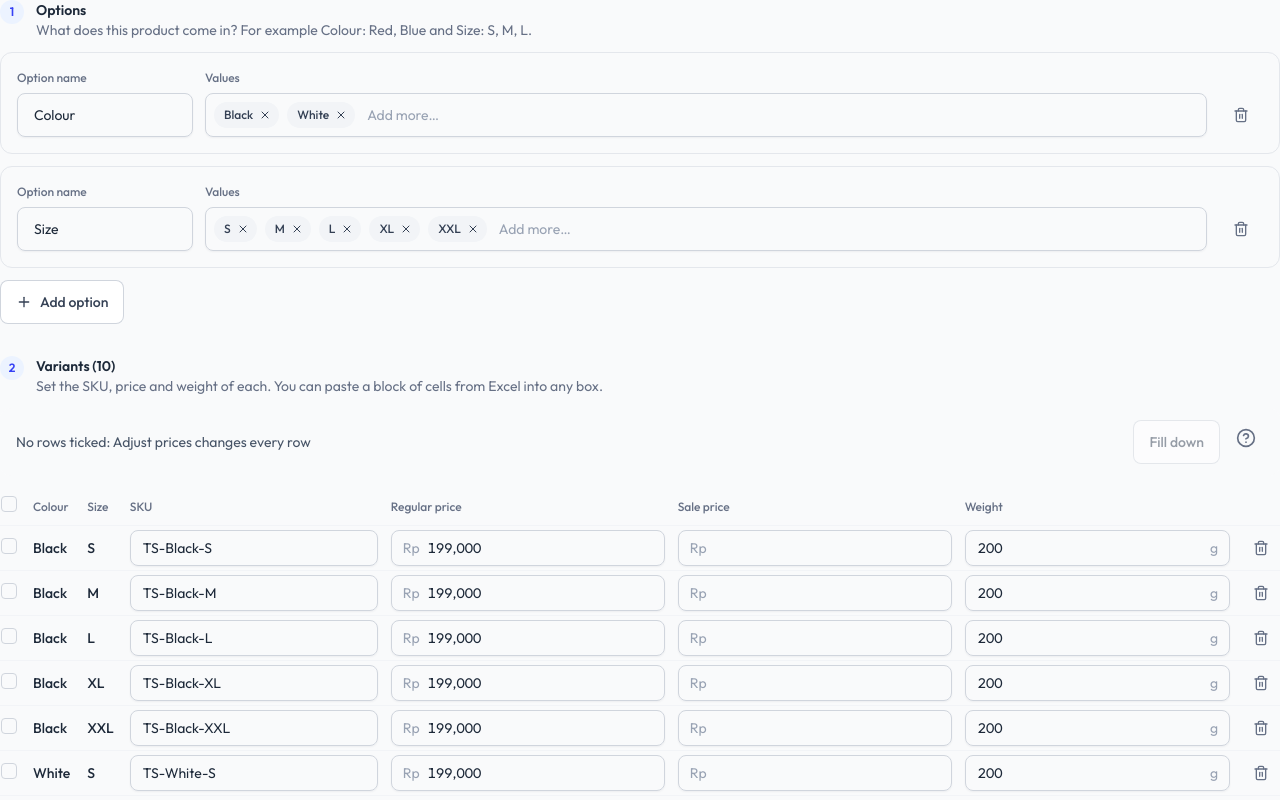
Scenario: VariantMatrix (P1-046) › selects every variant from the header
Click the checkbox named "Select Black / S". click: click(9, 546)
box: [1,538,17,554]
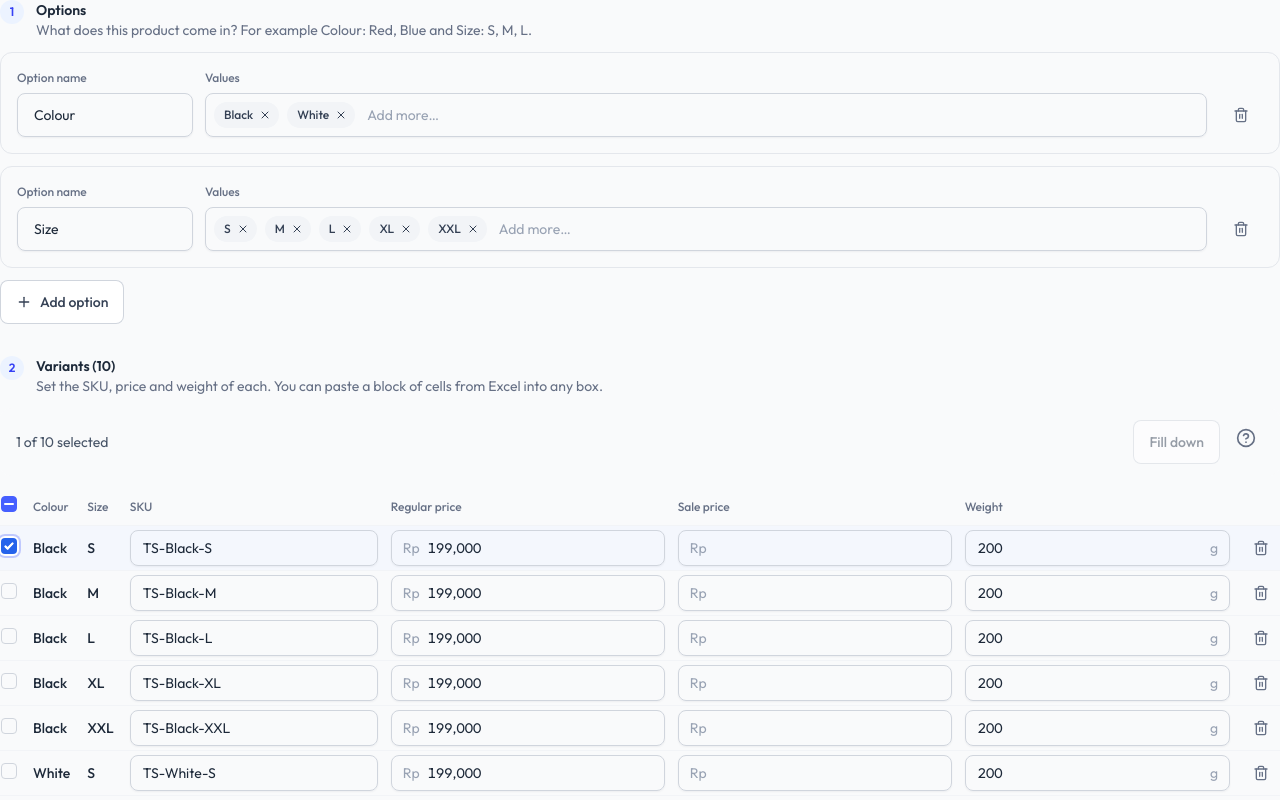
Click the checkbox named "Select all variants". click: click(9, 504)
box: [1,496,17,512]
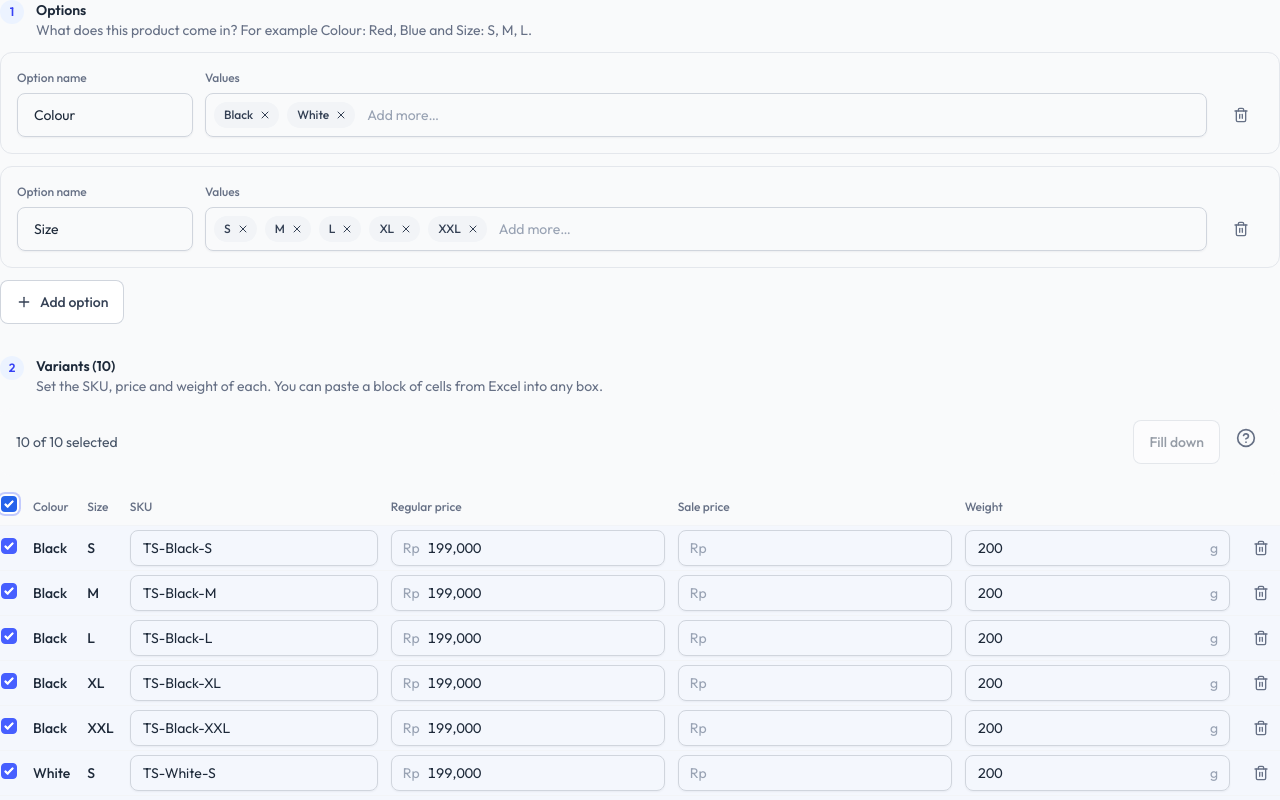
Expected: the text "10 of 10 selected" is shown, [16,432,118,452]
Click the checkbox named "Select all variants". click: click(9, 504)
box: [1,496,17,512]
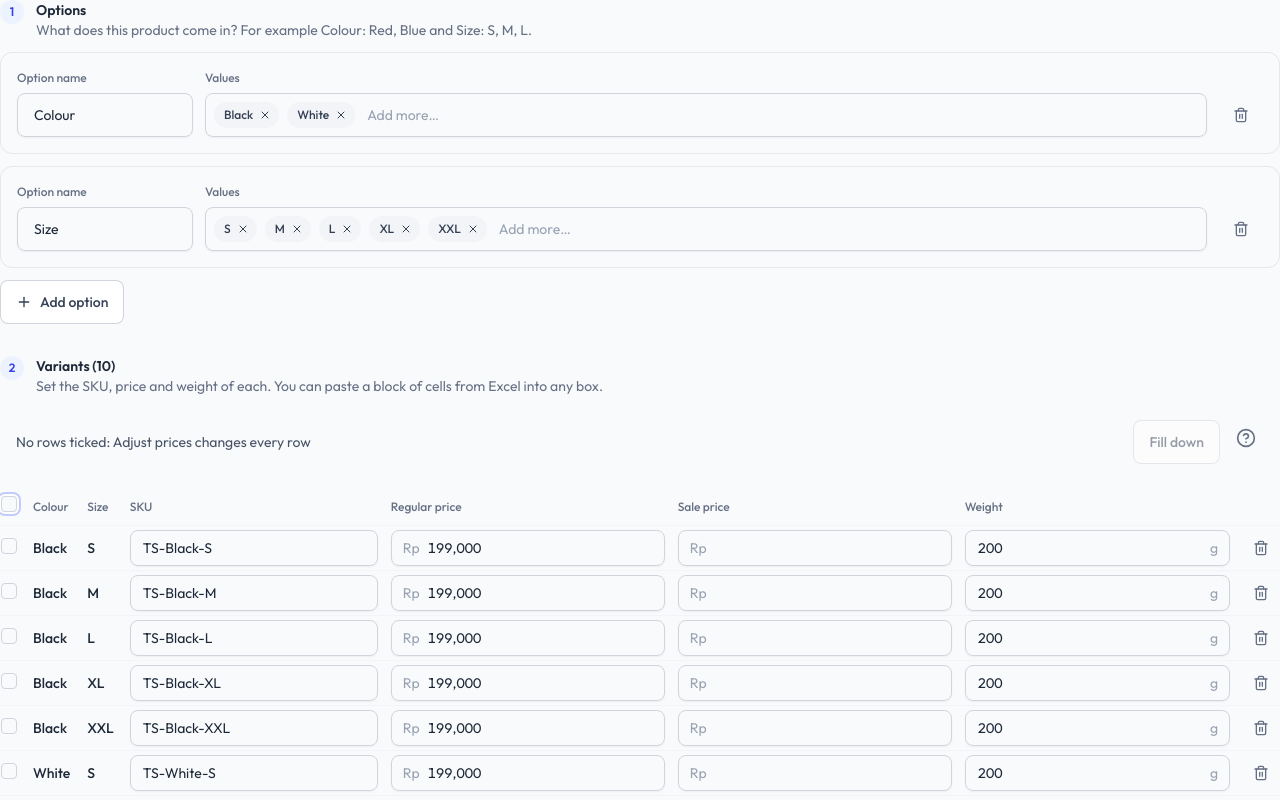
Expected: the text "No rows ticked: Adjust prices changes every row" is shown, [16,432,311,452]
